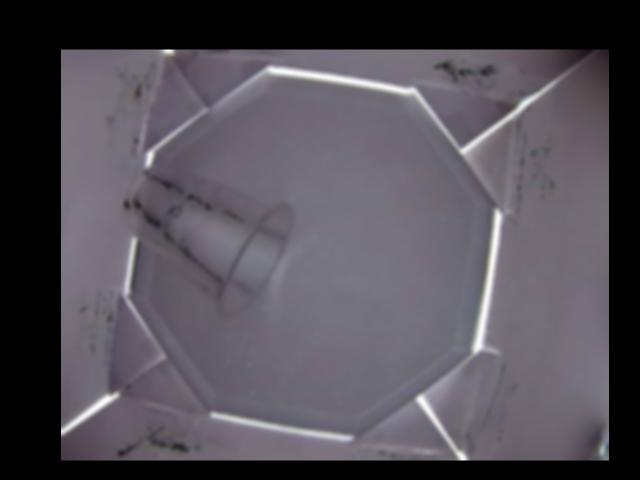Cup: (121, 161, 295, 314)
